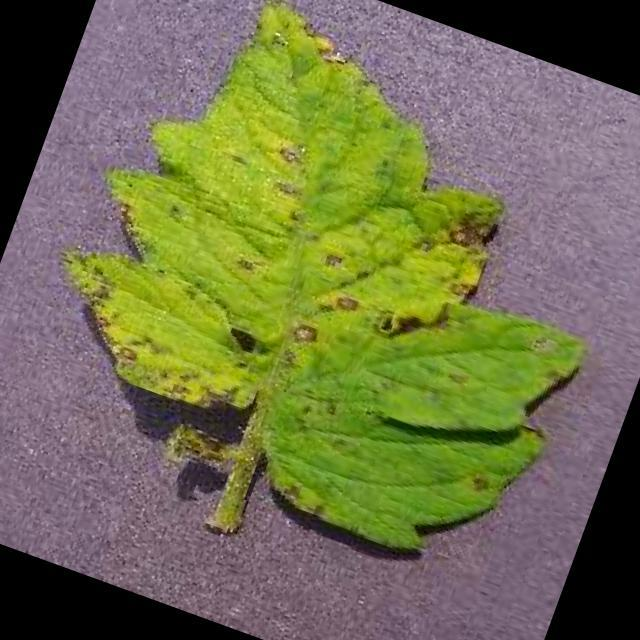Tomato Septoria spot leaf: (1, 0, 640, 588)
